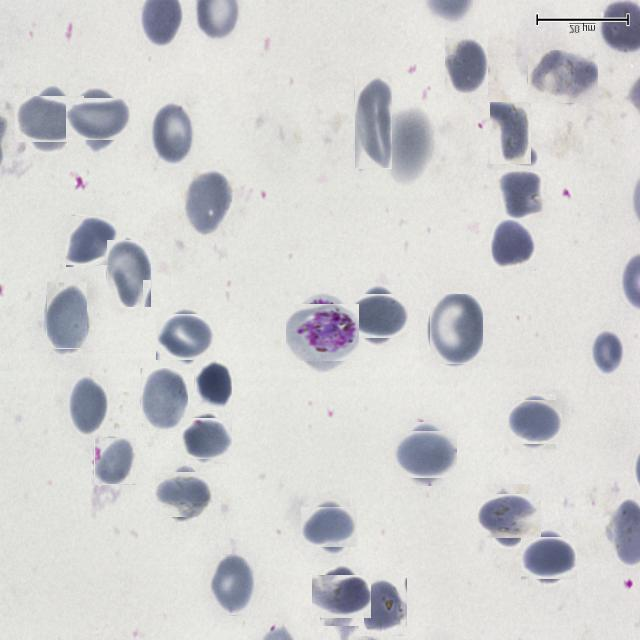red blood cell: (429, 294, 483, 365), (528, 50, 598, 103), (354, 75, 392, 169), (184, 169, 234, 237), (21, 90, 78, 148), (140, 368, 188, 433), (398, 426, 453, 482), (106, 240, 151, 308), (481, 489, 536, 544), (72, 92, 126, 146), (150, 102, 194, 166), (359, 578, 407, 636), (160, 311, 212, 364), (352, 289, 404, 342), (46, 282, 87, 349), (210, 554, 254, 616), (158, 468, 210, 520), (316, 570, 368, 622), (65, 215, 116, 266), (446, 37, 490, 95), (490, 102, 531, 164), (524, 532, 574, 582), (509, 397, 559, 447), (498, 170, 547, 220), (490, 218, 536, 271), (68, 376, 108, 435), (306, 503, 354, 551), (183, 415, 230, 461), (94, 438, 136, 485), (194, 360, 232, 410), (590, 326, 626, 376)
schizont: (290, 300, 356, 365)
